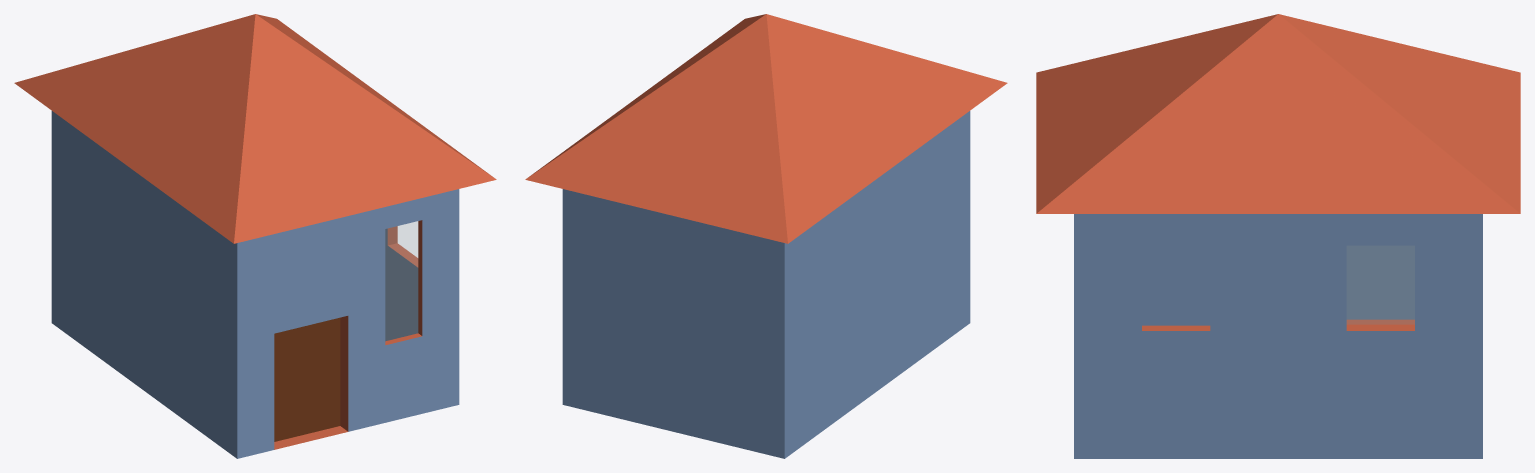
File: myHouse1.fbx
The picture shows the model from 3 angles, left to right: view 1: azimuth 30°, elevation 25°; view 2: azimuth 150°, elevation 25°; view 3: azimuth 270°, elevation 25°; orthographic projection. The views are drawn at different scales.
Parts seen in each view (by area): view 1: Cube; view 2: Cube; view 3: Cube.
Boxes of the visible parts, x1,y1,x2,y2 form: Cube: (14,14,496,458); Cube: (525,14,1007,458); Cube: (1036,14,1520,458).
Size of the model in its own units: 469 by 596 by 679.
